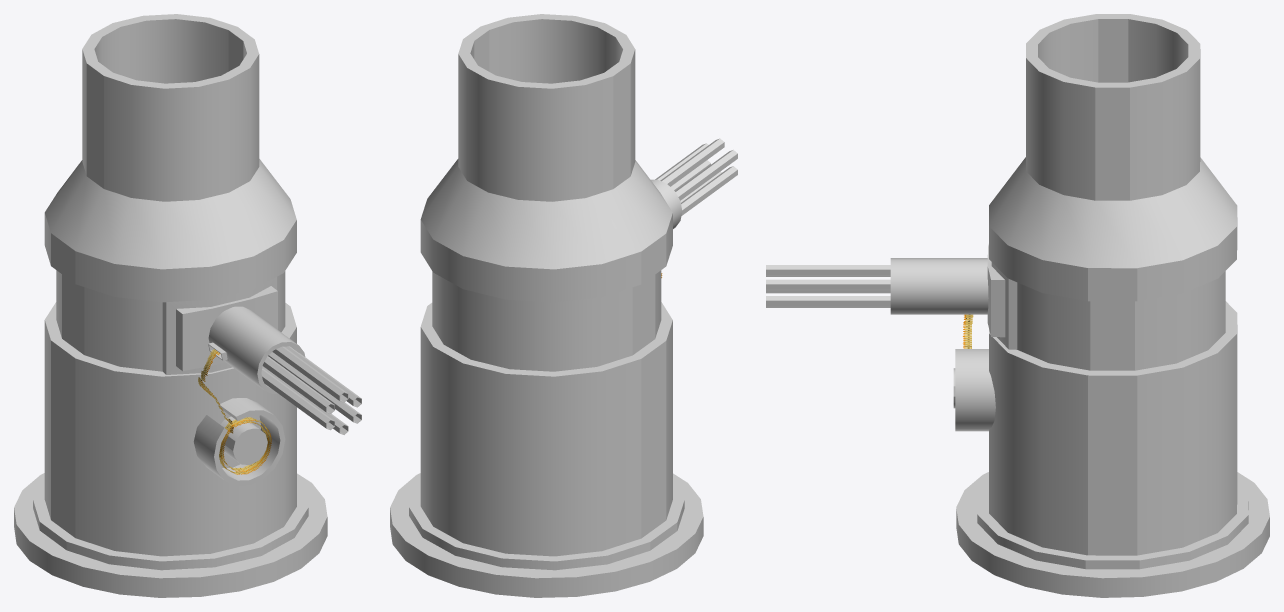
The model's file is Gatling.fbx.
3 views of the same model, side by side, from view 1: azimuth 30°, elevation 25°; view 2: azimuth 150°, elevation 25°; view 3: azimuth 270°, elevation 25° (orthographic).
Visible parts, largest first — view 1: Plane; view 2: Plane; view 3: Plane.
Boxes of the visible parts, x1=… form: Plane: x1=14, y1=14, x2=361, y2=597; Plane: x1=390, y1=14, x2=737, y2=597; Plane: x1=766, y1=14, x2=1269, y2=597.
Bounding box in the file's own units: 64.16 × 109 × 103.
